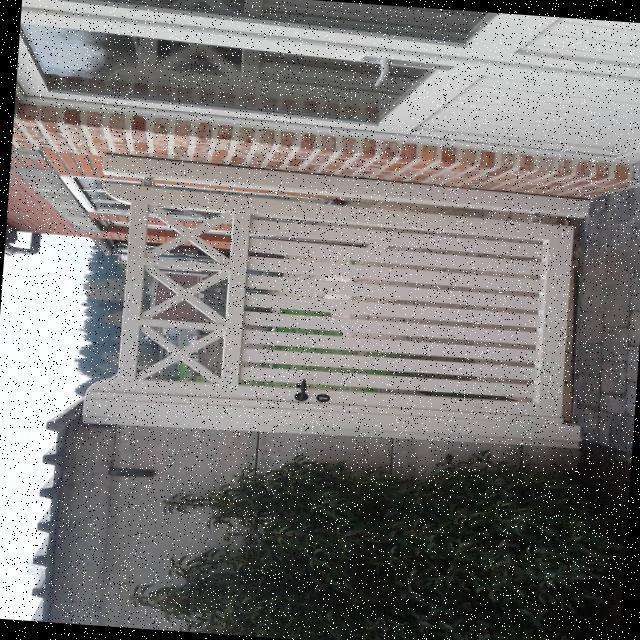fence line: (100, 188, 602, 424)
